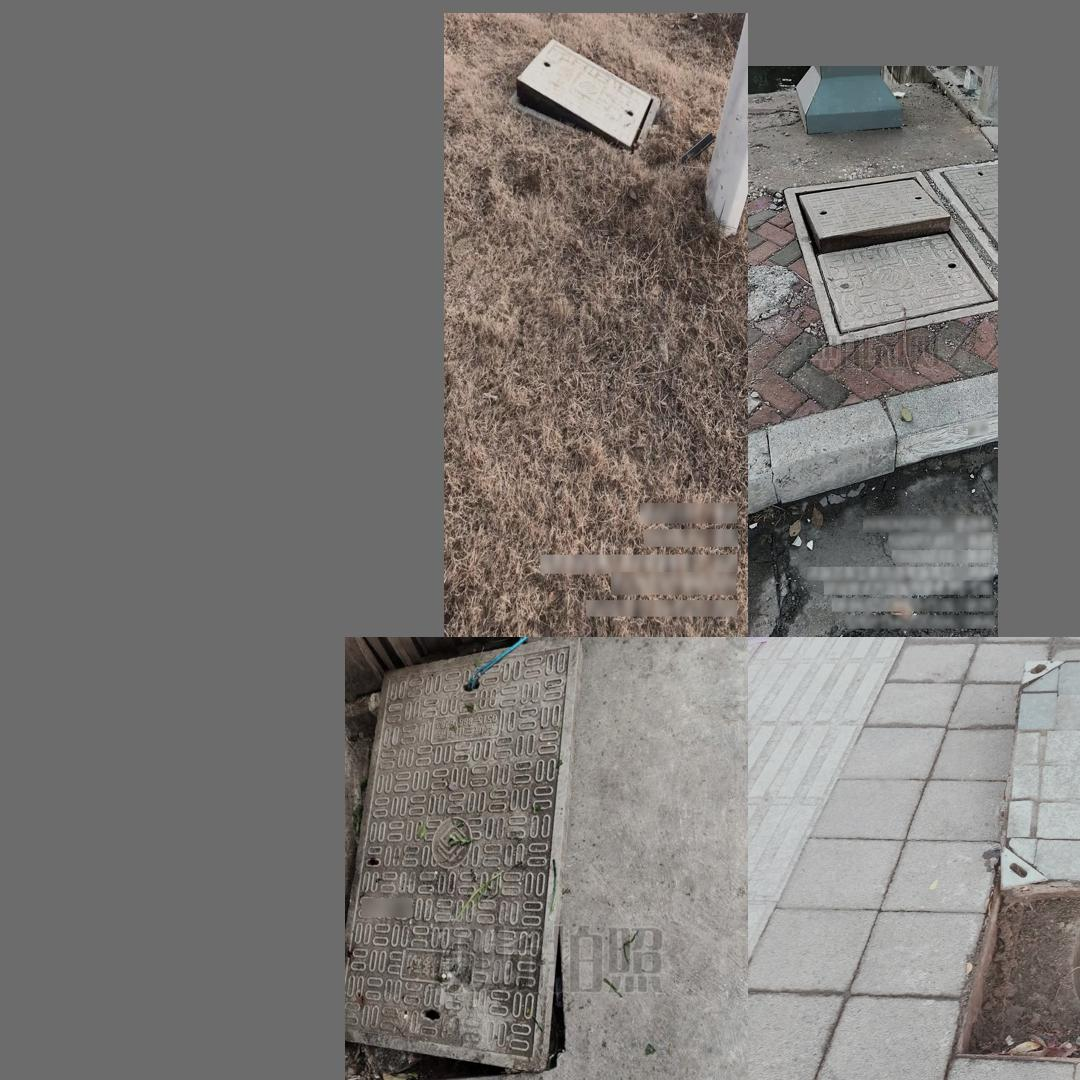uncovered: (347, 637, 584, 1080), (938, 648, 1080, 1080), (798, 164, 963, 339), (499, 32, 663, 145)
